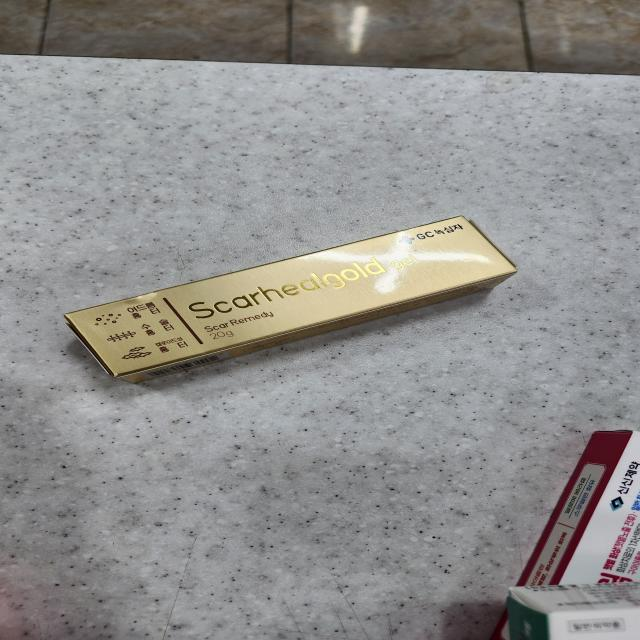box: (65, 218, 516, 384)
